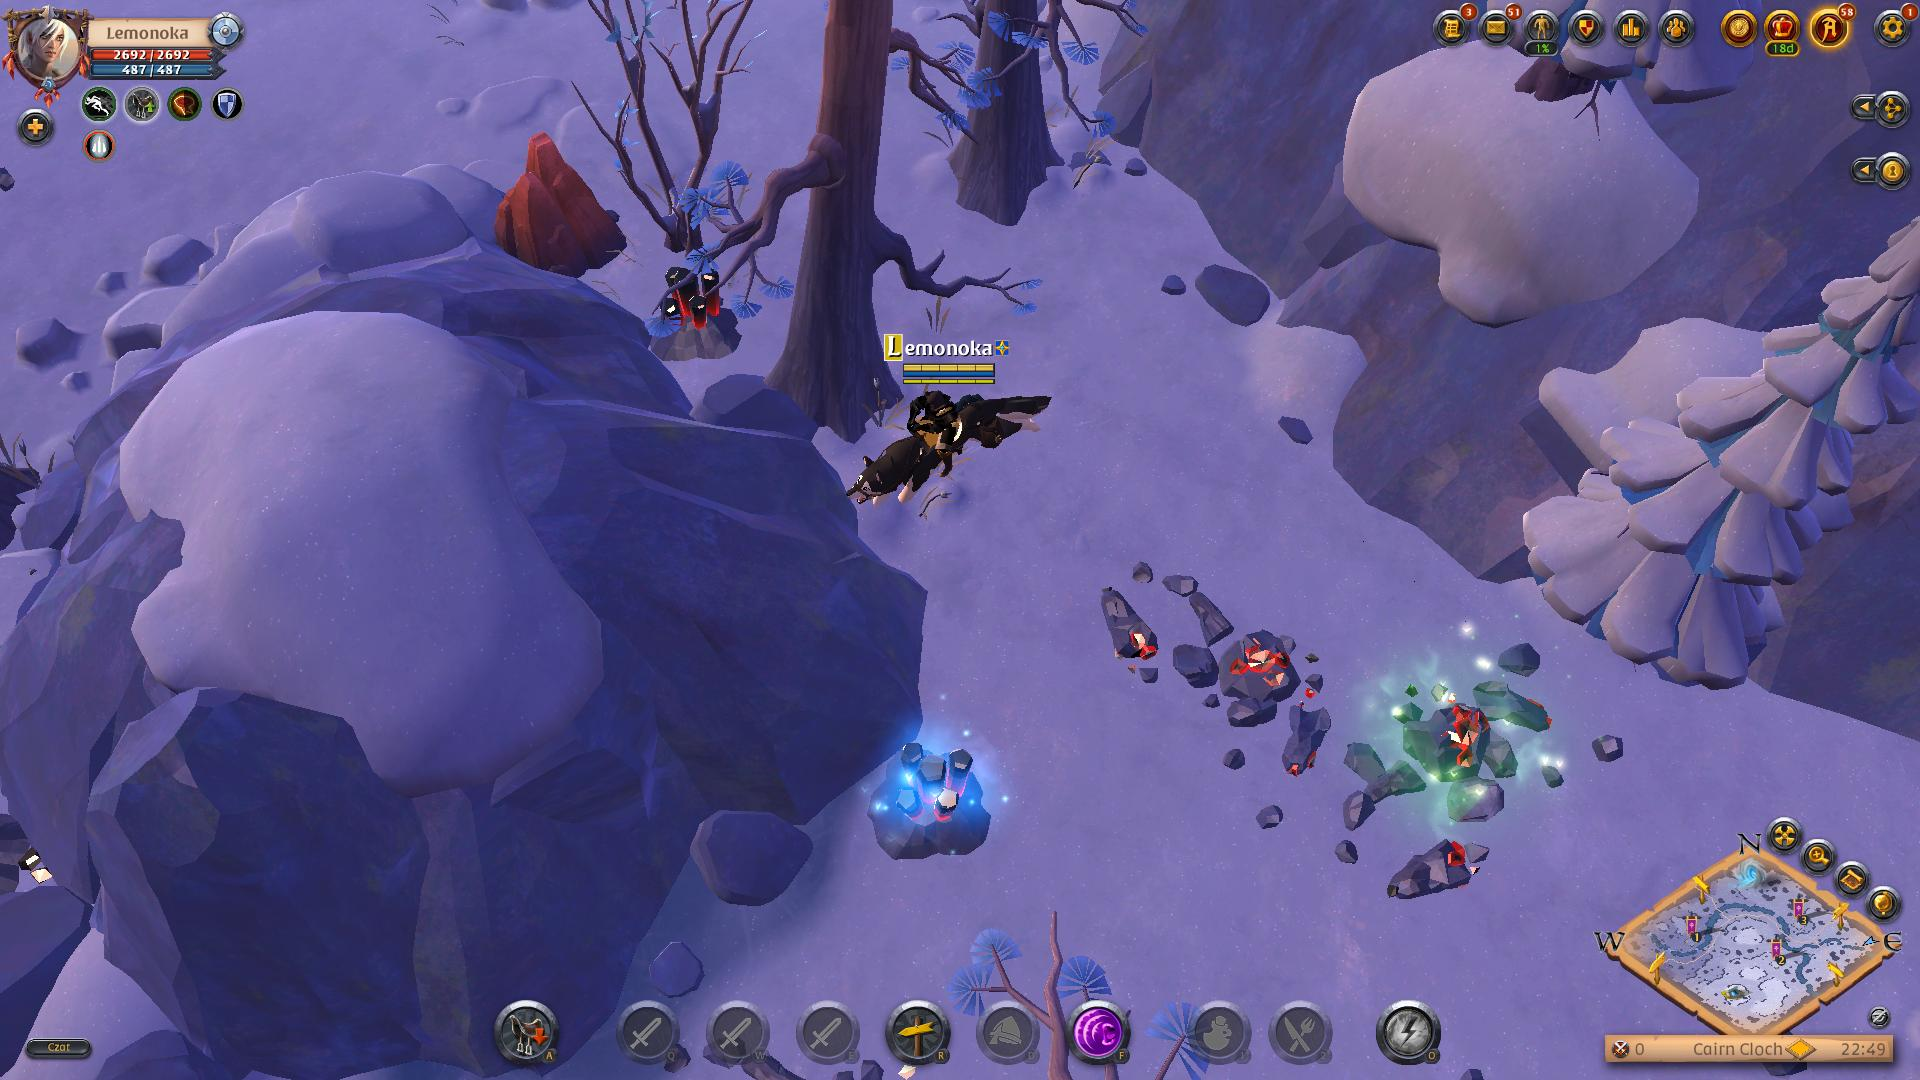ore tier 5: (861, 737, 993, 861)
rock tier 5: (487, 132, 626, 291)
